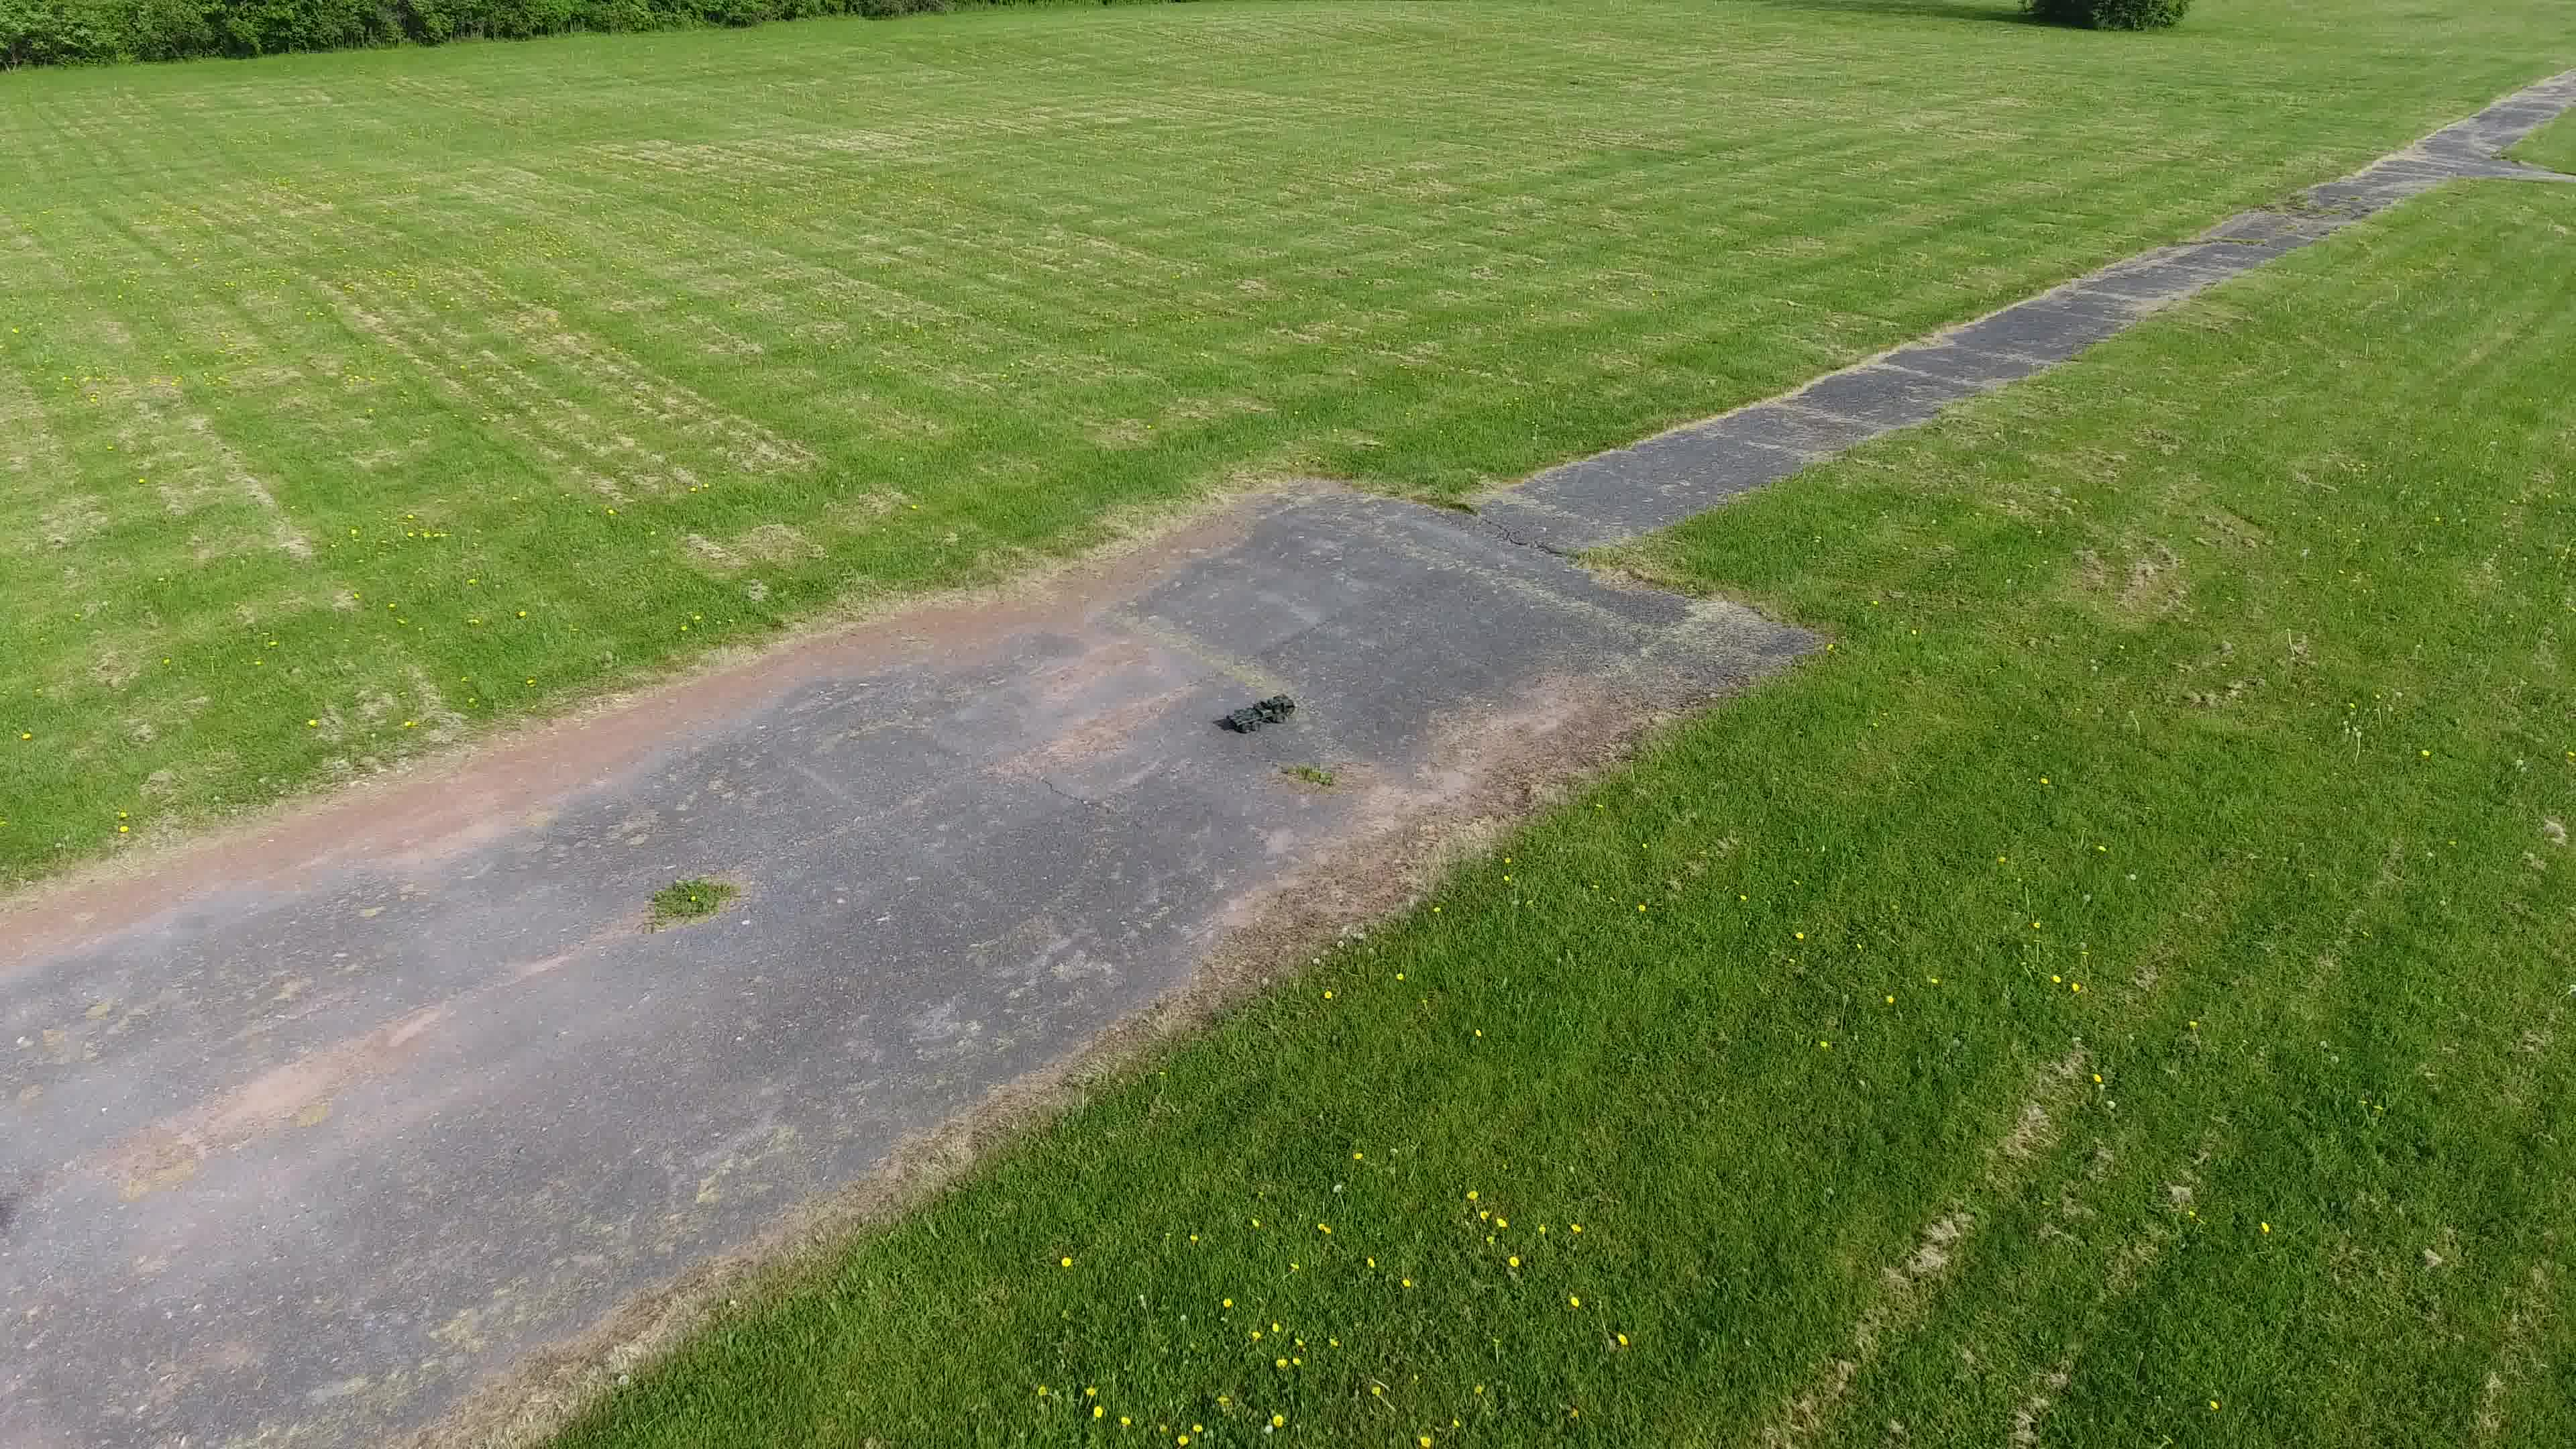transporter9: (1223, 694, 1297, 736)
